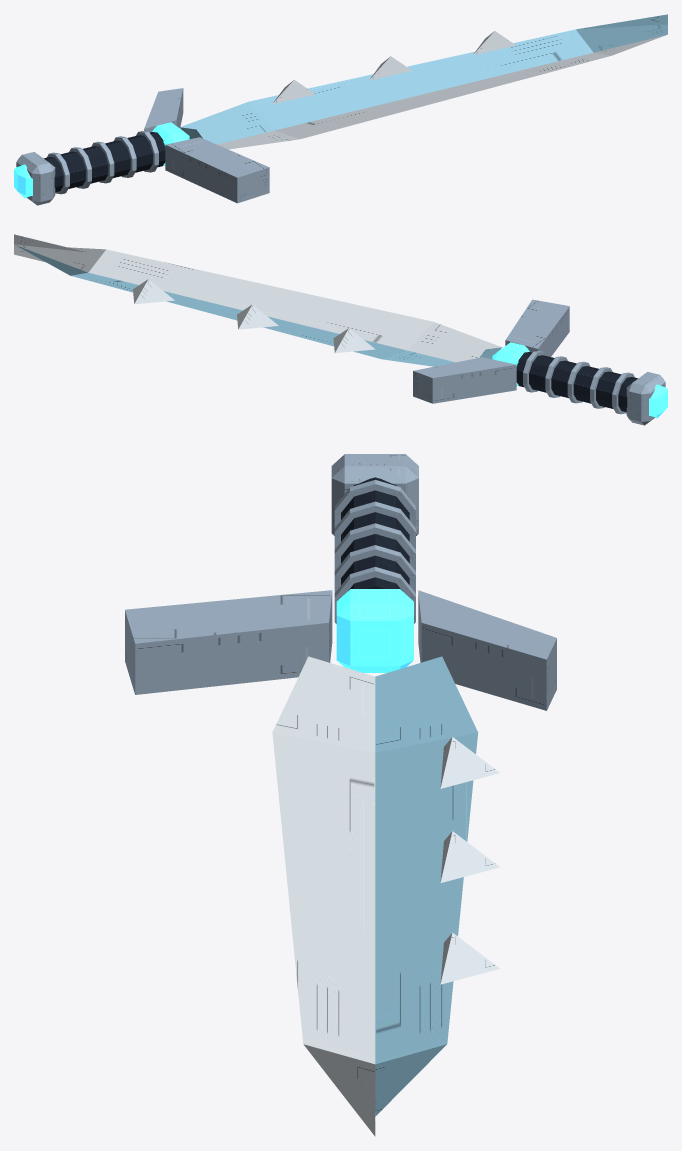
File: frostbite.glb
The picture shows the model from 3 angles, top to bottom: view 1: azimuth 30°, elevation 25°; view 2: azimuth 150°, elevation 25°; view 3: azimuth 270°, elevation 25°; orthographic projection. The views are drawn at different scales.
Visible parts, largest first — view 1: blade, grip, guard; view 2: blade, guard, grip; view 3: blade, guard, grip.
Part boxes in pixels (<box>): blade: <box>180,14,667,149</box>; grip: <box>14,131,165,205</box>; guard: <box>144,88,269,203</box>; blade: <box>14,234,501,366</box>; guard: <box>413,299,569,403</box>; grip: <box>516,351,667,425</box>; blade: <box>272,656,499,1136</box>; guard: <box>125,589,556,710</box>; grip: <box>331,454,418,623</box>.
Bounding box in the file's own units: 0.8755 × 0.051 × 0.252.
Materials: 5 (5 with a texture image).
